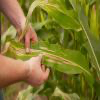Corn leaf blight: (7, 39, 94, 67), (22, 0, 79, 35)
